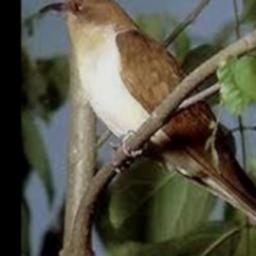Cuckoo: (38, 0, 256, 254)
